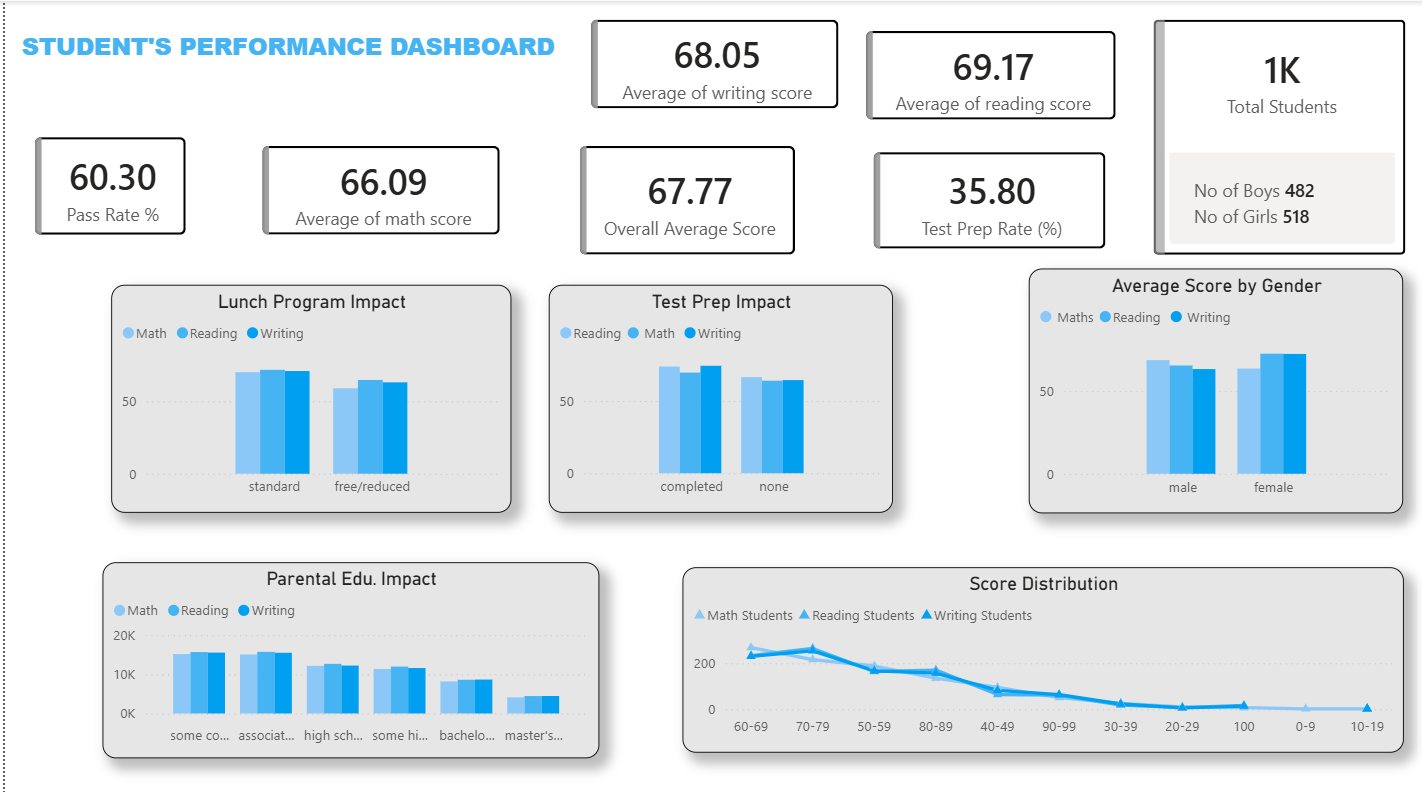

What the dashboard file says about the page in this screenshot:
{"tool":"powerbi","page":{"name":"Page 1","canvas":[1280,720],"ordinal":0},"visuals":[{"type":"cardVisual","fields":{"Data":["Avg(Sheet1.math score)"]},"box":[215,114.4,248.1,114.4],"z":0},{"type":"cardVisual","fields":{"Data":["Avg(Sheet1.reading score)"]},"box":[759.3,9.6,259.1,114.4],"z":1000},{"type":"cardVisual","fields":{"Data":["Avg(Sheet1.writing score)"]},"box":[511.3,0,257.7,114.4],"z":2000},{"type":"cardVisual","fields":{"Data":["Sheet1.Overall Average Score"]},"box":[501.6,114.4,228.8,132.3],"z":3000},{"type":"cardVisual","fields":{"Data":["Sheet1.Pass Rate %"]},"box":[9.6,106.1,170.9,122.7],"z":4000},{"type":"cardVisual","title":"Total Students","fields":{"Data":["Sheet1.Total Students"]},"box":[1018.4,0,261.8,246.7],"z":5000},{"type":"cardVisual","fields":{"Data":["Sheet1.Test Prep Rate (%)"]},"box":[766.2,119.9,243.9,121.3],"z":6000},{"type":"clusteredColumnChart","title":"Average Score by Gender","fields":{"Category":["Sheet1.gender"],"Y":["Avg(Sheet1.math score)","Avg(Sheet1.reading score)","Avg(Sheet1.writing score)"]},"box":[923.3,241.2,337.6,220.5],"z":7000},{"type":"clusteredColumnChart","title":"Test Prep Impact","fields":{"Category":["Sheet1.test preparation course"],"Y":["Avg(Sheet1.reading score)","Avg(Sheet1.math score)","Avg(Sheet1.writing score)"]},"box":[490.6,256.3,310.1,205.3],"z":8000},{"type":"clusteredColumnChart","title":"Lunch Program Impact","fields":{"Category":["Sheet1.lunch"],"Y":["Avg(Sheet1.math score)","Avg(Sheet1.reading score)","Avg(Sheet1.writing score)"]},"box":[95.3,255.8,360.5,205.8],"z":9000},{"type":"clusteredColumnChart","title":" Parental Edu. Impact","fields":{"Category":["Sheet1.parental level of education"],"Y":["Sum(Sheet1.math score)","Sum(Sheet1.reading score)","Sum(Sheet1.writing score)"]},"box":[88.4,505.8,447.7,176.7],"z":11000},{"type":"textbox","box":[9.6,20.7,516.8,56.5],"z":12000},{"type":"lineChart","title":"Score Distribution ","fields":{"Category":["Score Distribution.Range"],"Y":["Score Distribution.Math Students","Score Distribution.Reading Students","Score Distribution.Writing Students"]},"box":[610.5,510.5,650,167.4],"z":12001}]}

Visuals, with their boxes in screenshot pixels (x1, y1, x2, y2), scaled from the page's 1280x720 canvas onto the 1422x792 screenshot:
cardVisual - Avg(Sheet1.math score): <box>239,126,514,252</box>
cardVisual - Avg(Sheet1.reading score): <box>844,11,1131,136</box>
cardVisual - Avg(Sheet1.writing score): <box>568,0,854,126</box>
cardVisual - Sheet1.Overall Average Score: <box>557,126,811,271</box>
cardVisual - Sheet1.Pass Rate %: <box>11,117,201,252</box>
"Total Students" cardVisual: <box>1131,0,1421,271</box>
cardVisual - Sheet1.Test Prep Rate (%): <box>851,132,1122,265</box>
"Average Score by Gender" clusteredColumnChart: <box>1026,265,1401,508</box>
"Test Prep Impact" clusteredColumnChart: <box>545,282,890,508</box>
"Lunch Program Impact" clusteredColumnChart: <box>106,281,506,508</box>
" Parental Edu. Impact" clusteredColumnChart: <box>98,556,596,751</box>
textbox: <box>11,23,585,85</box>
"Score Distribution " lineChart: <box>678,562,1400,746</box>
